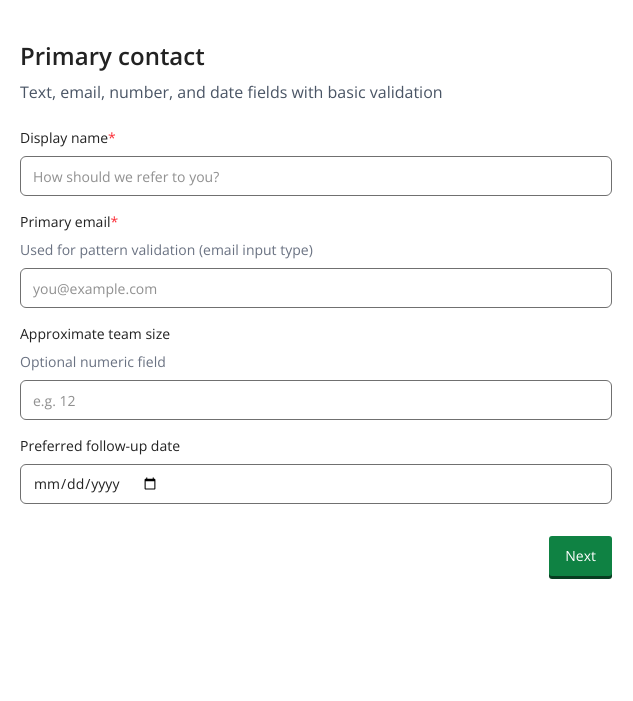
Test case: Survey 1 — Navigation › shows Previous button on page 2 and can go back
The width and height of the screenshot is (633, 701).
# Fill page 1
Step 1. Type "Alice" into the field with placeholder "How should we refer to you?" → (316, 176), box [20,156,612,196]
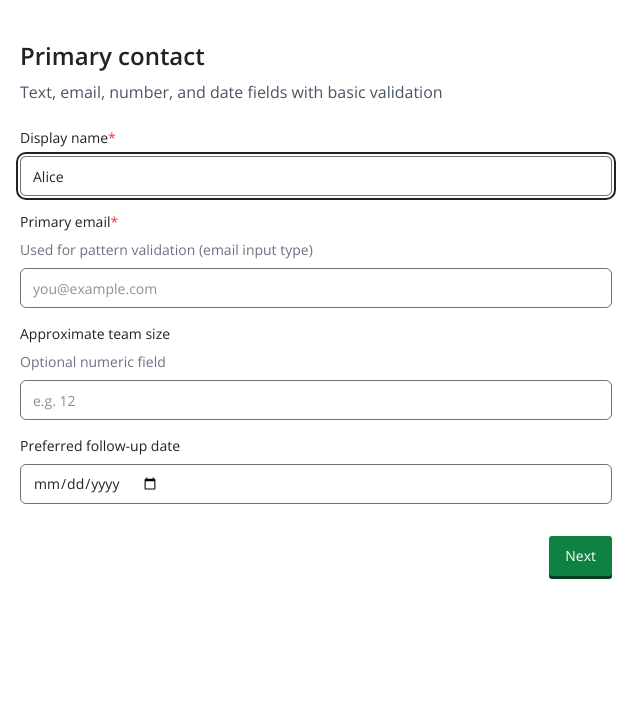
Step 2. Type "alice@test.com" into the field with placeholder "you@example.com" → (316, 288), box [20,268,612,308]
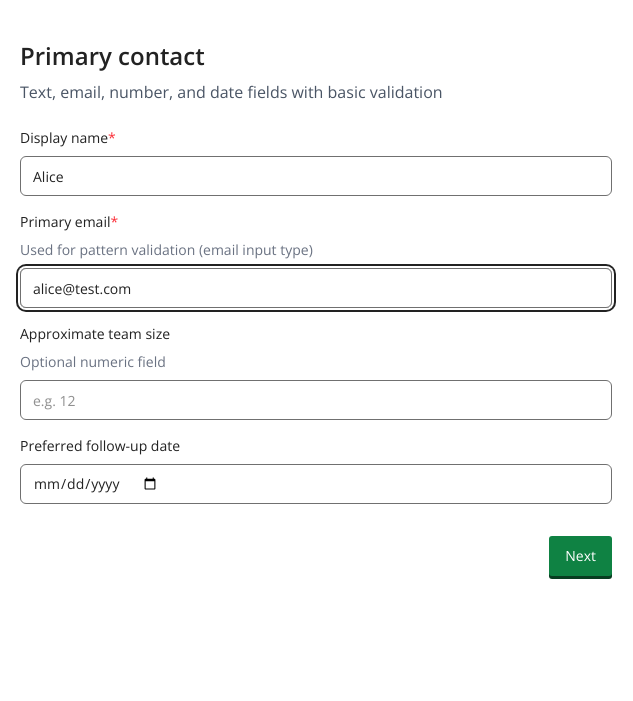
# Navigate forward
Step 3. Click the button "Next" → (581, 556), box [549,536,612,576]
(page scrolled)
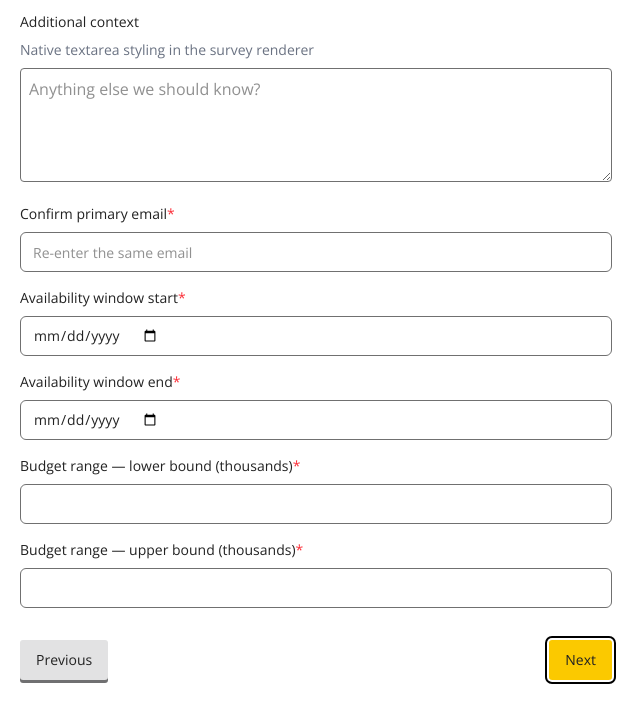
Now the button "Previous" is shown
# Navigate back
Step 4. Click the button "Previous" → (64, 660), box [20,640,108,680]
(page scrolled)
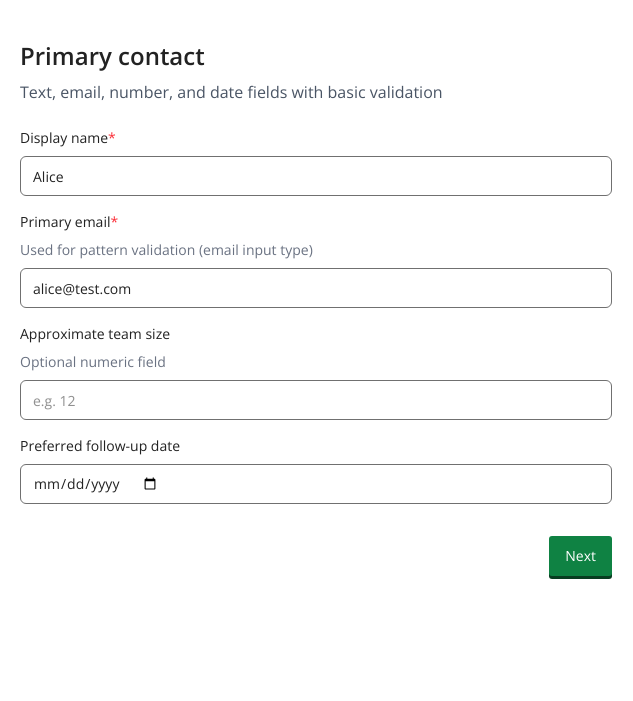
Now the heading "Primary contact" is shown, box [20,39,205,72]
Now the field with placeholder "How should we refer to you?" holds "Alice", box [20,156,612,196]
